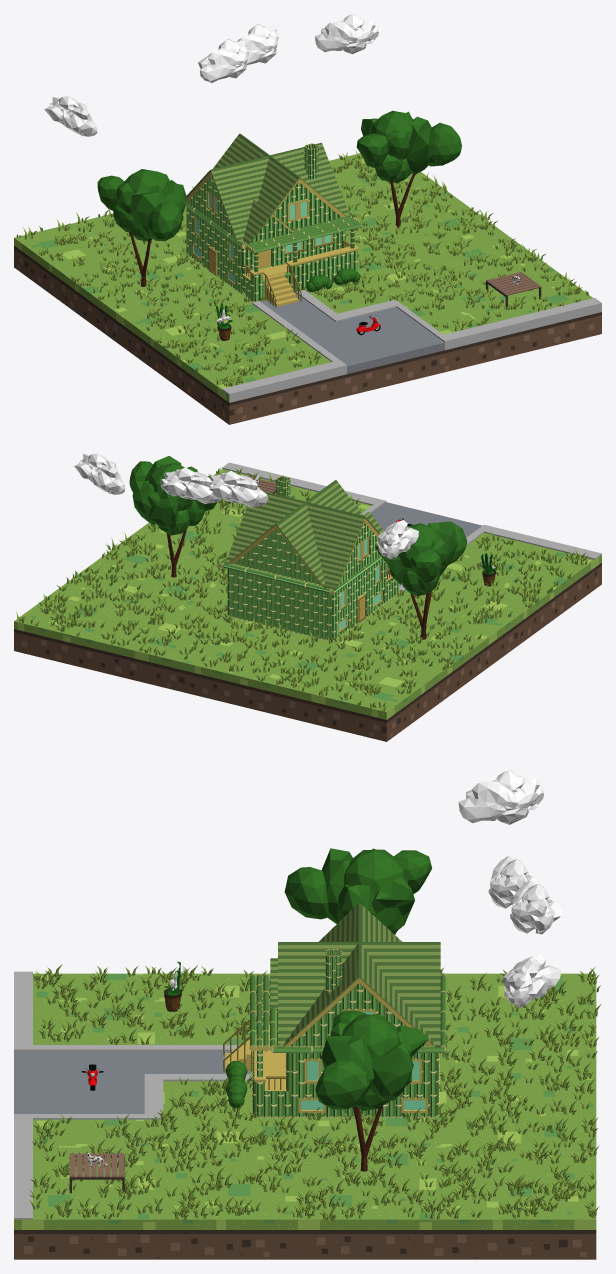
3 renders of one model, top to bottom at view 1: azimuth 30°, elevation 25°; view 2: azimuth 150°, elevation 25°; view 3: azimuth 270°, elevation 25°, orthographic. The views are drawn at different scales.
Parts seen in each view (by area): view 1: Cube.006, Cube.1327, Circle.012_Grass_0.192, Cube.007, tree, tree.001, Cube.009; view 2: Cube.006, Cube.1327, Circle.012_Grass_0.192, Cube.007, tree.001, tree; view 3: Cube.006, Circle.012_Grass_0.192, Cube.1327, tree, Cube.007, tree.001, Cube.009.
Boxes of the visible parts, x1,y1,x2,y2 form: Cube.006: [14, 153, 601, 424]; Cube.1327: [185, 133, 361, 307]; Circle.012_Grass_0.192: [16, 150, 588, 386]; Cube.007: [44, 14, 378, 136]; tree: [356, 110, 461, 228]; tree.001: [97, 169, 186, 286]; Cube.009: [486, 272, 541, 306]; Cube.006: [14, 462, 601, 741]; Cube.1327: [218, 476, 399, 641]; Circle.012_Grass_0.192: [16, 468, 588, 711]; Cube.007: [74, 453, 418, 559]; tree.001: [375, 521, 467, 639]; tree: [129, 456, 216, 577]; Cube.006: [14, 971, 596, 1259]; Circle.012_Grass_0.192: [29, 964, 601, 1220]; Cube.1327: [223, 903, 446, 1117]; tree: [315, 1010, 428, 1171]; Cube.007: [458, 770, 561, 1007]; tree.001: [284, 848, 432, 934]; Cube.009: [69, 1153, 124, 1193].
Size of the model in its own units: 4071 by 2179 by 4040.
33 materials, 4 textured.
